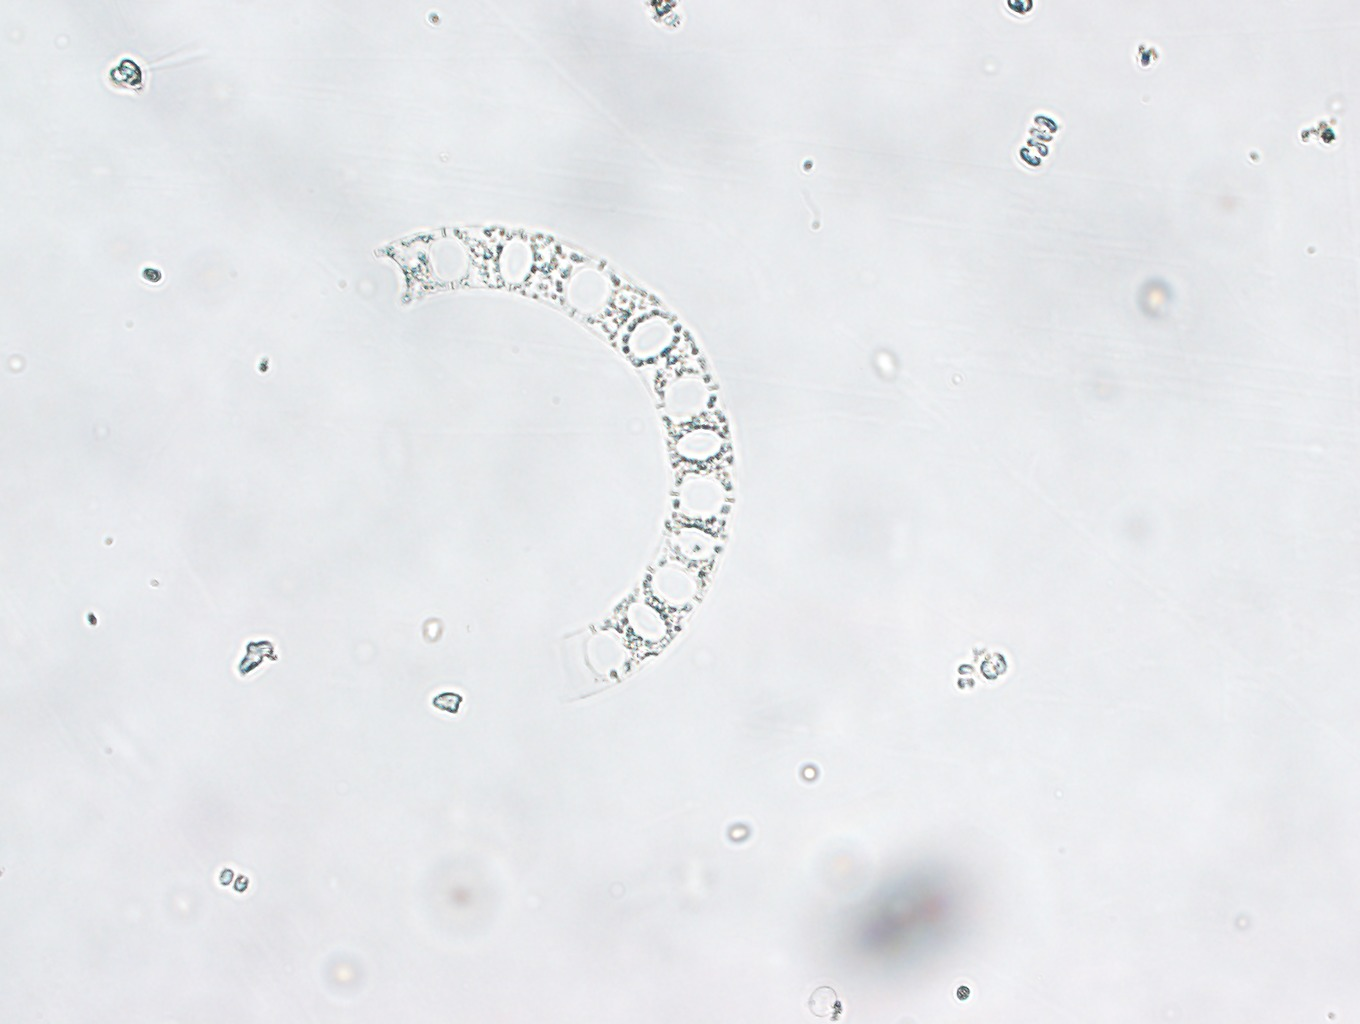eucampia: (358, 215, 746, 707)
